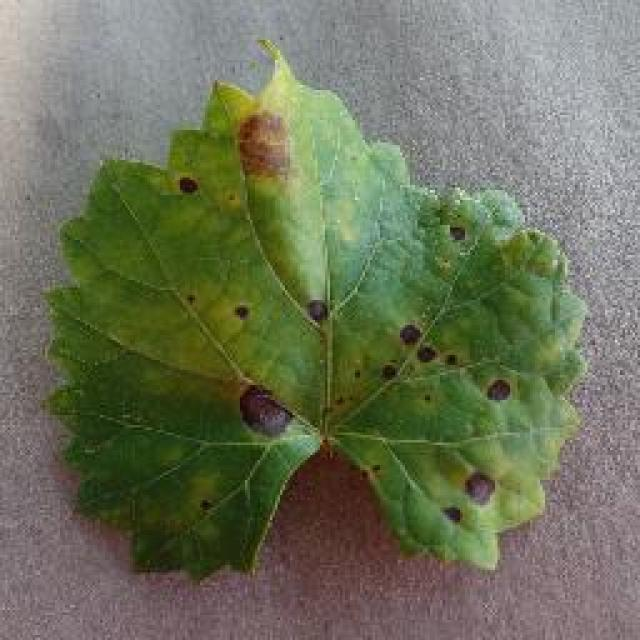Grape___Black_rot: (35, 36, 594, 592)
